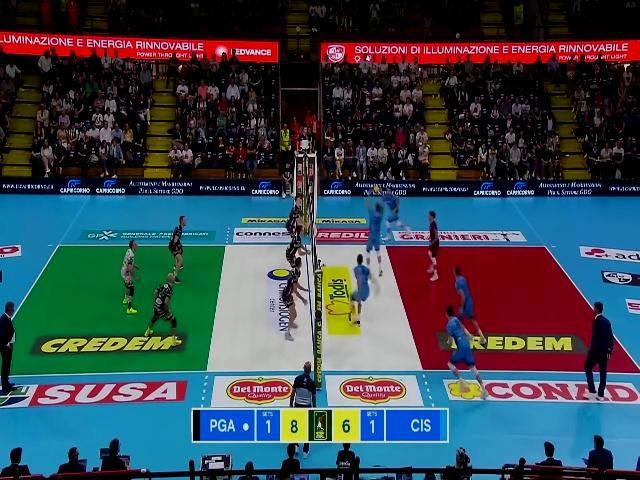volleyball court: (0, 243, 638, 373)
